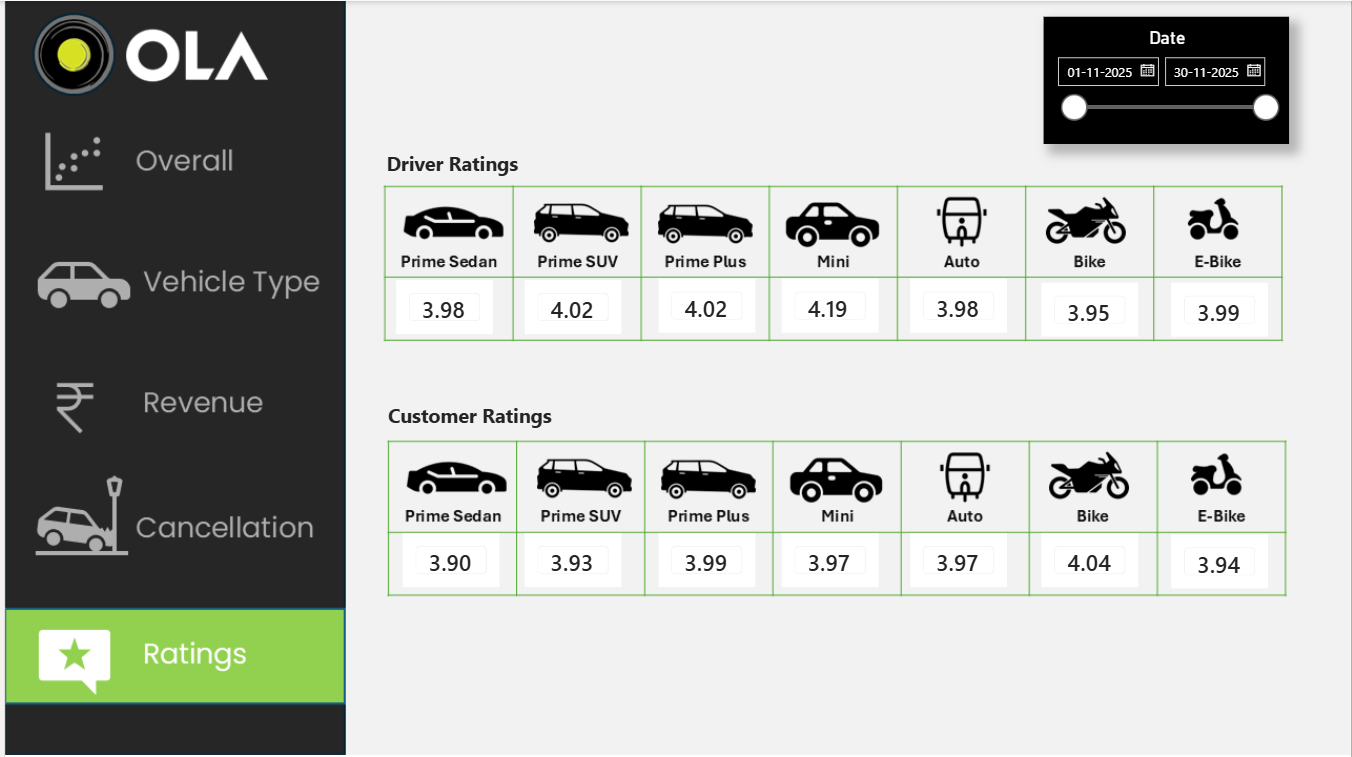

The page's visual inventory and layout, read from the dashboard file:
{"tool":"powerbi","page":{"name":"ratings","canvas":[1280,720],"ordinal":4},"visuals":[{"type":"actionButton","box":[0,579.6,322.4,87.5],"z":0},{"type":"actionButton","box":[1.3,231,322.4,87.5],"z":1000},{"type":"actionButton","box":[0,116.2,322.4,87.5],"z":2000},{"type":"cardVisual","fields":{"Data":["Avg(bengaluru_ride_data_sql_ready_1000.driver_rating)"]},"box":[366.7,265.3,102.8,62.5],"z":3000},{"type":"cardVisual","fields":{"Data":["Avg(bengaluru_ride_data_sql_ready_1000.driver_rating)"]},"box":[855.6,263.9,102.8,62.5],"z":4000},{"type":"cardVisual","fields":{"Data":["Avg(bengaluru_ride_data_sql_ready_1000.driver_rating)"]},"box":[488.9,265.3,102.8,62.5],"z":5000},{"type":"cardVisual","fields":{"Data":["Avg(bengaluru_ride_data_sql_ready_1000.driver_rating)"]},"box":[733.3,263.9,102.8,62.5],"z":6000},{"type":"cardVisual","fields":{"Data":["Avg(bengaluru_ride_data_sql_ready_1000.driver_rating)"]},"box":[616.7,263.9,102.8,62.5],"z":7000},{"type":"cardVisual","fields":{"Data":["Avg(bengaluru_ride_data_sql_ready_1000.driver_rating)"]},"box":[1104.2,266.7,102.8,62.5],"z":8000},{"type":"cardVisual","fields":{"Data":["Avg(bengaluru_ride_data_sql_ready_1000.driver_rating)"]},"box":[980.6,266.7,102.8,62.5],"z":9000},{"type":"textbox","box":[309.7,136.1,230.6,45.8],"z":10000},{"type":"textbox","box":[309.7,375,263.9,45.8],"z":11000},{"type":"cardVisual","fields":{"Data":["Avg(bengaluru_ride_data_sql_ready_1000.customer_rating)"]},"box":[373.6,505.6,102.8,62.5],"z":12000},{"type":"cardVisual","fields":{"Data":["Avg(bengaluru_ride_data_sql_ready_1000.customer_rating)"]},"box":[488.9,505.6,102.8,62.5],"z":12001},{"type":"cardVisual","fields":{"Data":["Avg(bengaluru_ride_data_sql_ready_1000.customer_rating)"]},"box":[616.7,505.6,102.8,62.5],"z":12002},{"type":"cardVisual","fields":{"Data":["Avg(bengaluru_ride_data_sql_ready_1000.customer_rating)"]},"box":[733.3,505.6,102.8,62.5],"z":12003},{"type":"cardVisual","fields":{"Data":["Avg(bengaluru_ride_data_sql_ready_1000.customer_rating)"]},"box":[855.6,505.6,102.8,62.5],"z":12004},{"type":"cardVisual","fields":{"Data":["Avg(bengaluru_ride_data_sql_ready_1000.customer_rating)"]},"box":[980.6,505.6,102.8,62.5],"z":12005},{"type":"cardVisual","fields":{"Data":["Avg(bengaluru_ride_data_sql_ready_1000.customer_rating)"]},"box":[1104.2,506.9,102.8,62.5],"z":12006},{"type":"slicer","title":"Date","fields":{"Values":["bengaluru_ride_data_sql_ready_1000.date"]},"box":[987.5,15.3,233.3,120.8],"z":12007}]}

Visuals, with their boxes in screenshot pixels (x1, y1, x2, y2), scaled from the page's 1280x720 canvas onto the 1352x757 screenshot:
actionButton: 0, 609, 341, 701
actionButton: 1, 243, 342, 335
actionButton: 0, 122, 341, 214
cardVisual - Avg(bengaluru_ride_data_sql_ready_1000.driver_rating): 387, 279, 496, 345
cardVisual - Avg(bengaluru_ride_data_sql_ready_1000.driver_rating): 904, 277, 1012, 343
cardVisual - Avg(bengaluru_ride_data_sql_ready_1000.driver_rating): 516, 279, 625, 345
cardVisual - Avg(bengaluru_ride_data_sql_ready_1000.driver_rating): 775, 277, 883, 343
cardVisual - Avg(bengaluru_ride_data_sql_ready_1000.driver_rating): 651, 277, 760, 343
cardVisual - Avg(bengaluru_ride_data_sql_ready_1000.driver_rating): 1166, 280, 1275, 346
cardVisual - Avg(bengaluru_ride_data_sql_ready_1000.driver_rating): 1036, 280, 1144, 346
textbox: 327, 143, 571, 191
textbox: 327, 394, 606, 442
cardVisual - Avg(bengaluru_ride_data_sql_ready_1000.customer_rating): 395, 532, 503, 597
cardVisual - Avg(bengaluru_ride_data_sql_ready_1000.customer_rating): 516, 532, 625, 597
cardVisual - Avg(bengaluru_ride_data_sql_ready_1000.customer_rating): 651, 532, 760, 597
cardVisual - Avg(bengaluru_ride_data_sql_ready_1000.customer_rating): 775, 532, 883, 597
cardVisual - Avg(bengaluru_ride_data_sql_ready_1000.customer_rating): 904, 532, 1012, 597
cardVisual - Avg(bengaluru_ride_data_sql_ready_1000.customer_rating): 1036, 532, 1144, 597
cardVisual - Avg(bengaluru_ride_data_sql_ready_1000.customer_rating): 1166, 533, 1275, 599
"Date" slicer: 1043, 16, 1289, 143
